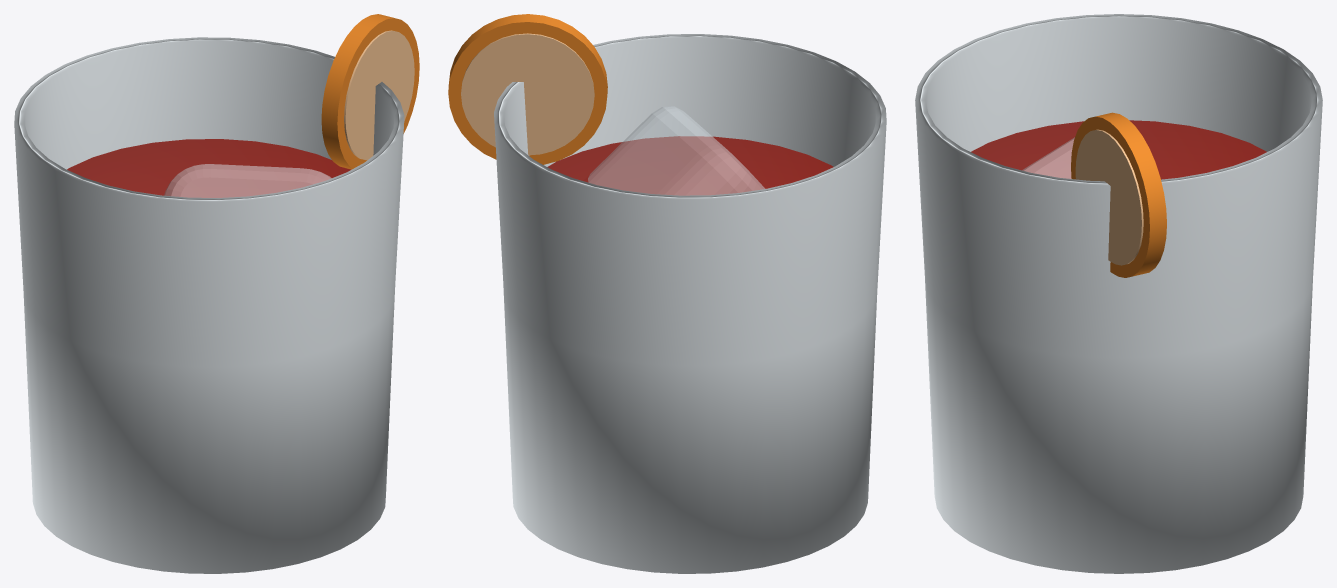
File: cocktail-negroni.glb
The picture shows the model from 3 angles, left to right: view 1: azimuth 30°, elevation 25°; view 2: azimuth 150°, elevation 25°; view 3: azimuth 270°, elevation 25°; orthographic projection. The views are drawn at different scales.
Bounding box in the file's own units: 0.0979 × 0.104 × 0.084.
